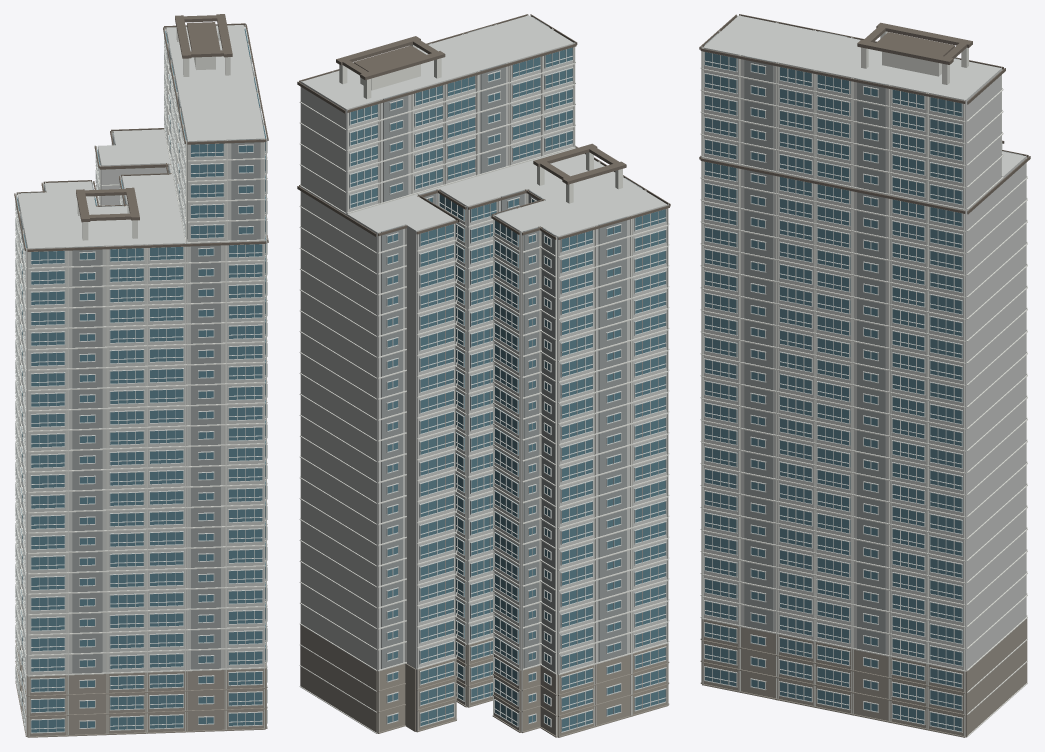
Rendered from bespoke-banpo-xi-102.glb.
The picture shows the model from 3 angles, left to right: view 1: azimuth 30°, elevation 25°; view 2: azimuth 150°, elevation 25°; view 3: azimuth 270°, elevation 25°; orthographic projection. The views are drawn at different scales.
Visible parts, largest first — view 1: BX102_editable_BX102_pale_silver_limestone002, BX102_editable_BX102_blue_grey_broad_glazing002, BX102_editable_BX102_white_window_frames002, BX102_editable_BX102_ivory_course_bands002, BX102_editable_BX102_grey_service_core002, BX102_editable_BX102_warm_ground_stone002, BX102_editable_BX102_dark_coping002; view 2: BX102_editable_BX102_pale_silver_limestone002, BX102_editable_BX102_blue_grey_broad_glazing002, BX102_editable_BX102_white_window_frames002, BX102_editable_BX102_ivory_course_bands002, BX102_editable_BX102_grey_service_core002, BX102_editable_BX102_warm_ground_stone002, BX102_editable_BX102_dark_coping002; view 3: BX102_editable_BX102_pale_silver_limestone002, BX102_editable_BX102_blue_grey_broad_glazing002, BX102_editable_BX102_white_window_frames002, BX102_editable_BX102_ivory_course_bands002, BX102_editable_BX102_grey_service_core002, BX102_editable_BX102_warm_ground_stone002, BX102_editable_BX102_dark_coping002.
Boxes of the visible parts, <box> form: BX102_editable_BX102_pale_silver_limestone002: <box>17,25,265,675</box>; BX102_editable_BX102_blue_grey_broad_glazing002: <box>16,28,265,732</box>; BX102_editable_BX102_white_window_frames002: <box>15,28,267,733</box>; BX102_editable_BX102_ivory_course_bands002: <box>15,25,267,736</box>; BX102_editable_BX102_grey_service_core002: <box>20,45,262,673</box>; BX102_editable_BX102_warm_ground_stone002: <box>15,640,267,737</box>; BX102_editable_BX102_dark_coping002: <box>14,14,268,251</box>; BX102_editable_BX102_pale_silver_limestone002: <box>301,15,667,736</box>; BX102_editable_BX102_blue_grey_broad_glazing002: <box>349,47,665,731</box>; BX102_editable_BX102_white_window_frames002: <box>349,47,666,732</box>; BX102_editable_BX102_ivory_course_bands002: <box>299,15,669,736</box>; BX102_editable_BX102_grey_service_core002: <box>381,17,642,672</box>; BX102_editable_BX102_warm_ground_stone002: <box>300,625,669,737</box>; BX102_editable_BX102_dark_coping002: <box>297,14,670,239</box>; BX102_editable_BX102_pale_silver_limestone002: <box>703,15,1026,736</box>; BX102_editable_BX102_blue_grey_broad_glazing002: <box>705,52,962,731</box>; BX102_editable_BX102_white_window_frames002: <box>704,51,962,732</box>; BX102_editable_BX102_ivory_course_bands002: <box>700,15,1027,737</box>; BX102_editable_BX102_grey_service_core002: <box>704,31,1022,654</box>; BX102_editable_BX102_warm_ground_stone002: <box>700,618,1027,737</box>; BX102_editable_BX102_dark_coping002: <box>699,14,1030,214</box>.
Size of the model in its own units: 40.52 by 81.3 by 36.88.
